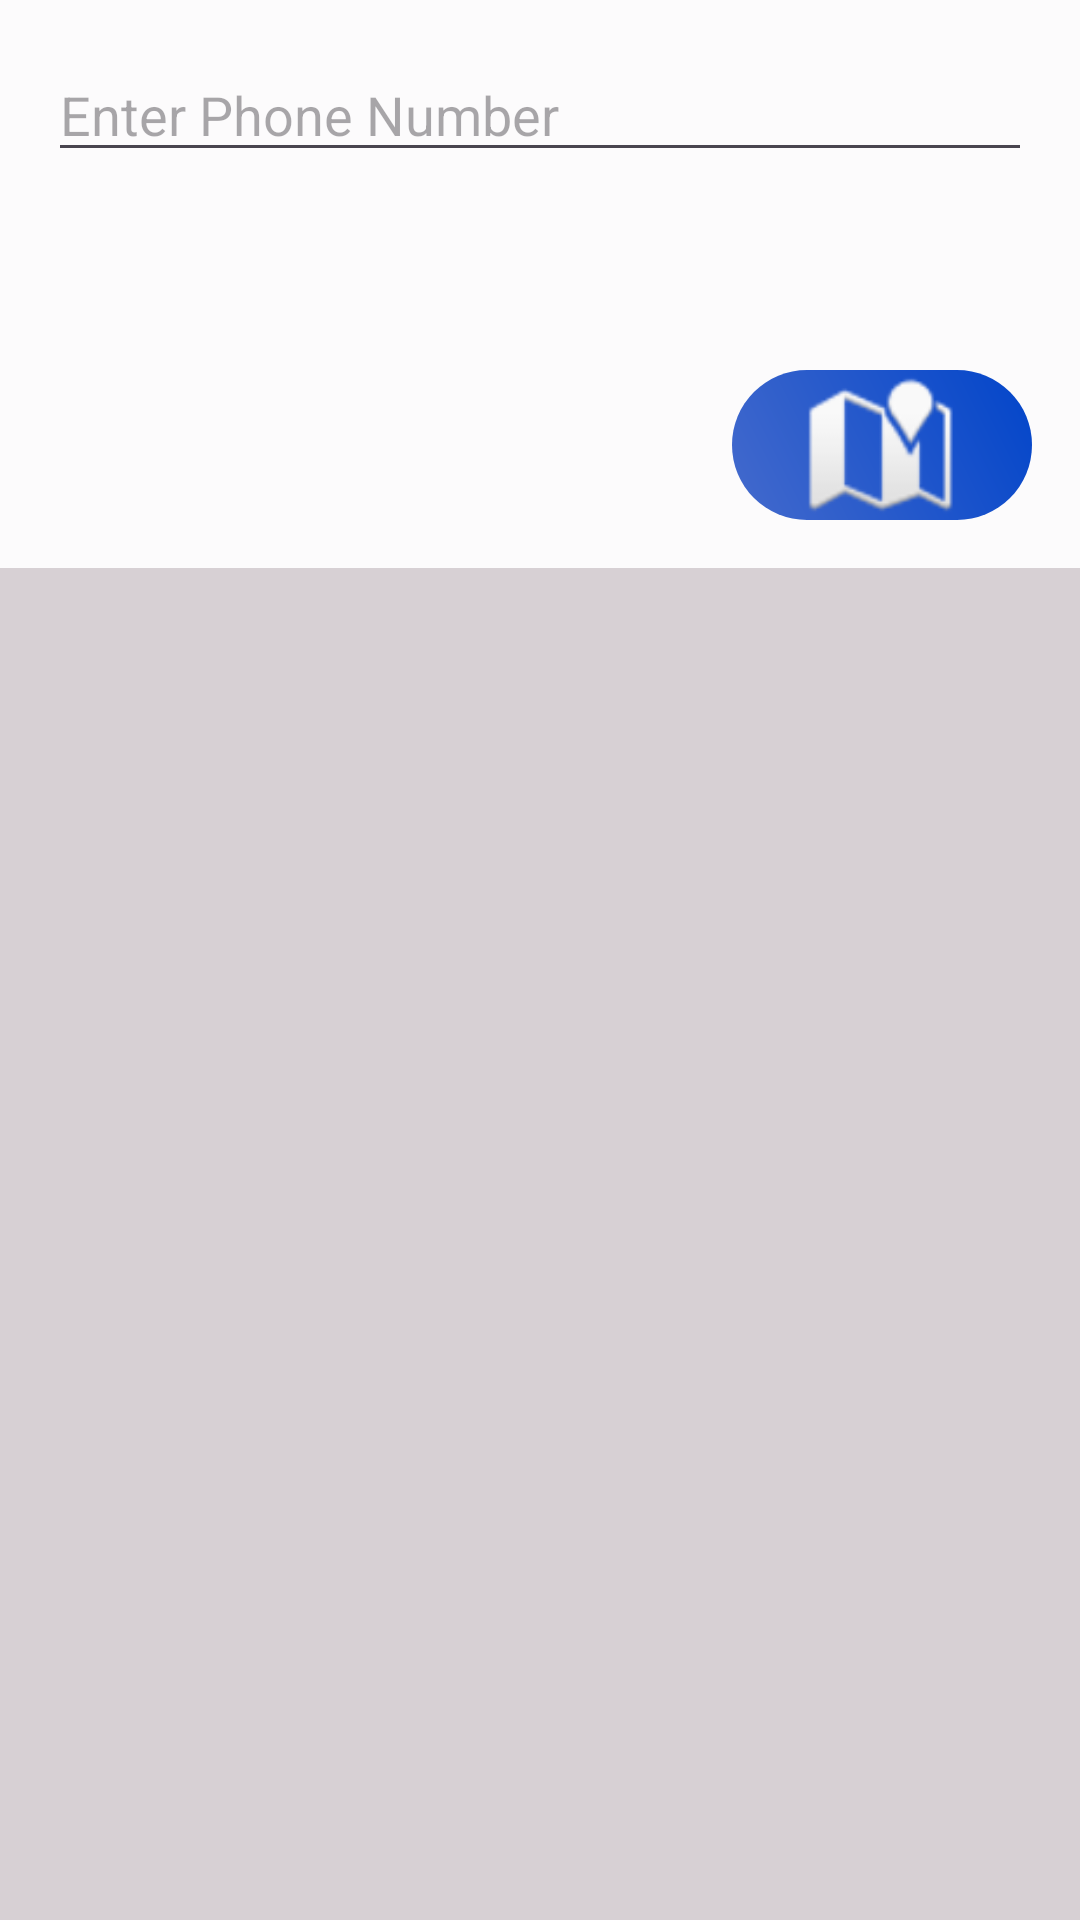

Locate icon controls on the screen. Image size 1080w x 1920h, boxes as (x1, y1, x2, y2).
Get location: (732, 370, 1032, 520)
